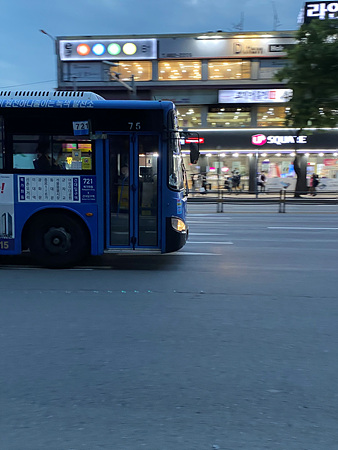entrance: (100, 129, 164, 253)
